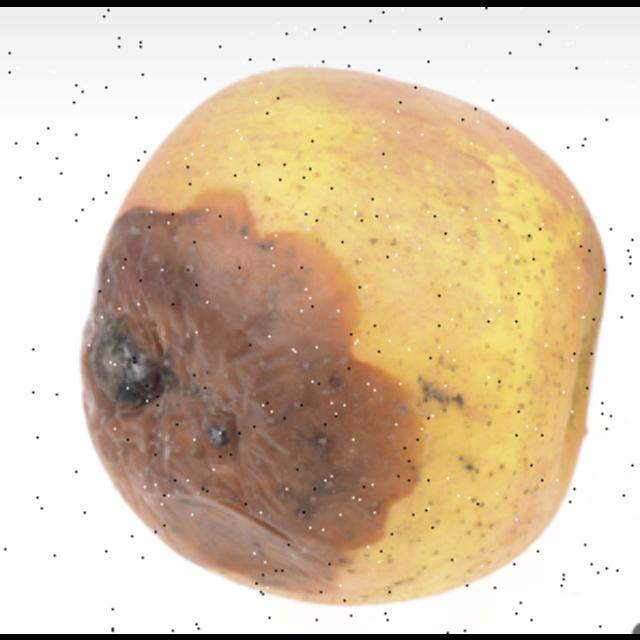Apel Tidak Segar: (42, 22, 604, 606)
